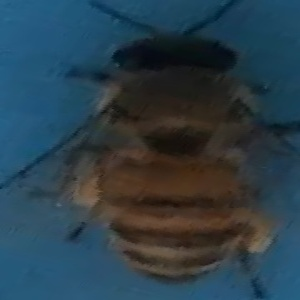bee: (20, 10, 292, 285)
